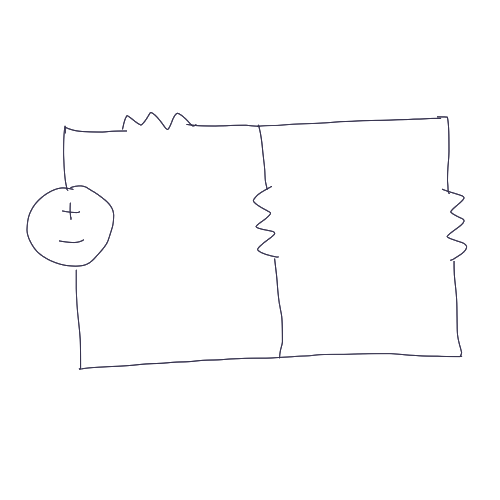dcvs: (26, 182, 120, 266)
res: (250, 178, 286, 268), (440, 180, 470, 269), (114, 110, 202, 135)
